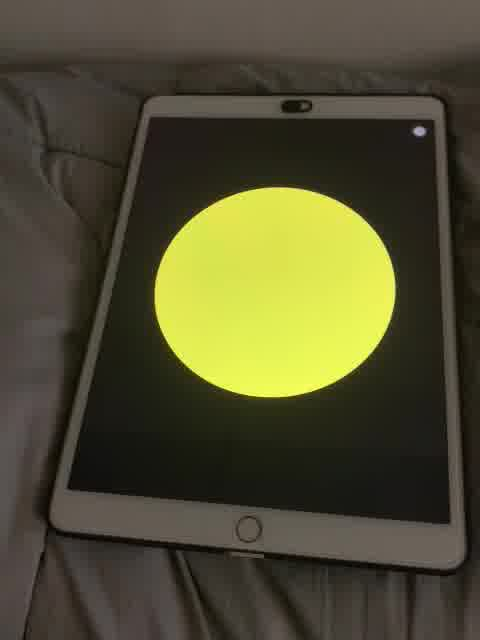left: (152, 178, 403, 408)
